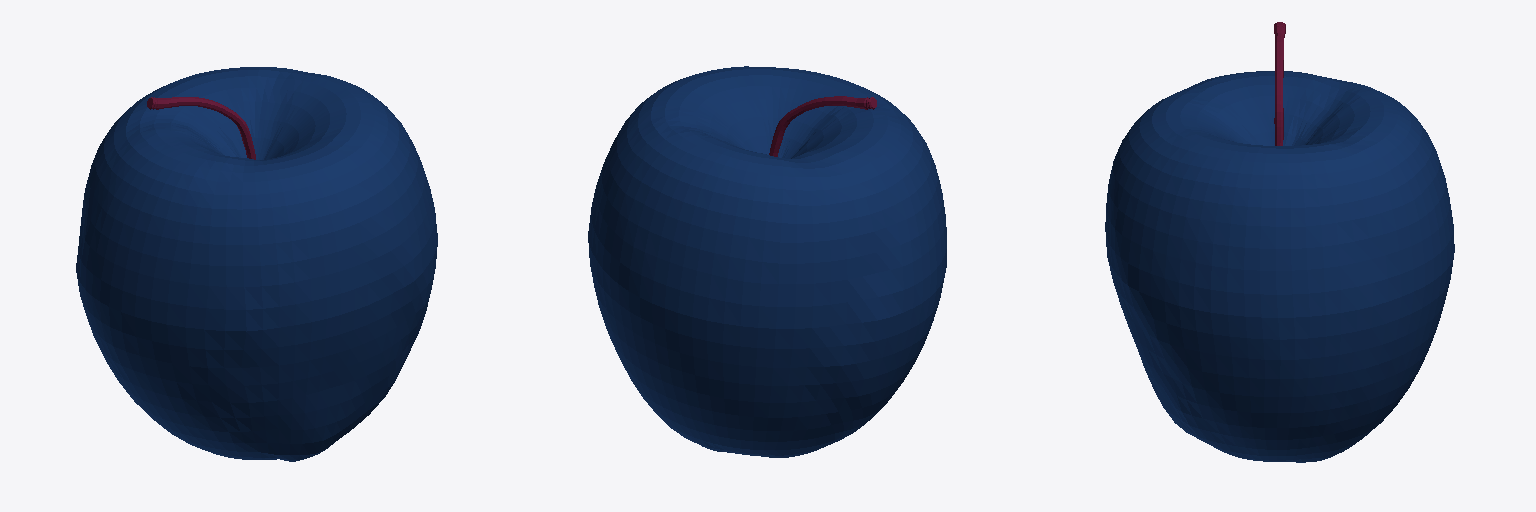
Rendered from manzana3.obj.
3 renders of one model, left to right at view 1: azimuth 30°, elevation 25°; view 2: azimuth 150°, elevation 25°; view 3: azimuth 270°, elevation 25°, orthographic.
Parts seen in each view (by area): view 1: object.002, apple_skin.002; view 2: object.002, apple_skin.002; view 3: object.002, apple_skin.002.
Part boxes in pixels (left/top/right/bottom): object.002: left=76, top=67, right=437, bottom=461; apple_skin.002: left=147, top=97, right=255, bottom=159; object.002: left=588, top=66, right=946, bottom=457; apple_skin.002: left=769, top=96, right=876, bottom=156; object.002: left=1105, top=71, right=1454, bottom=462; apple_skin.002: left=1274, top=22, right=1285, bottom=145.
Size of the model in its own units: 0.6472 by 0.7137 by 0.6151.